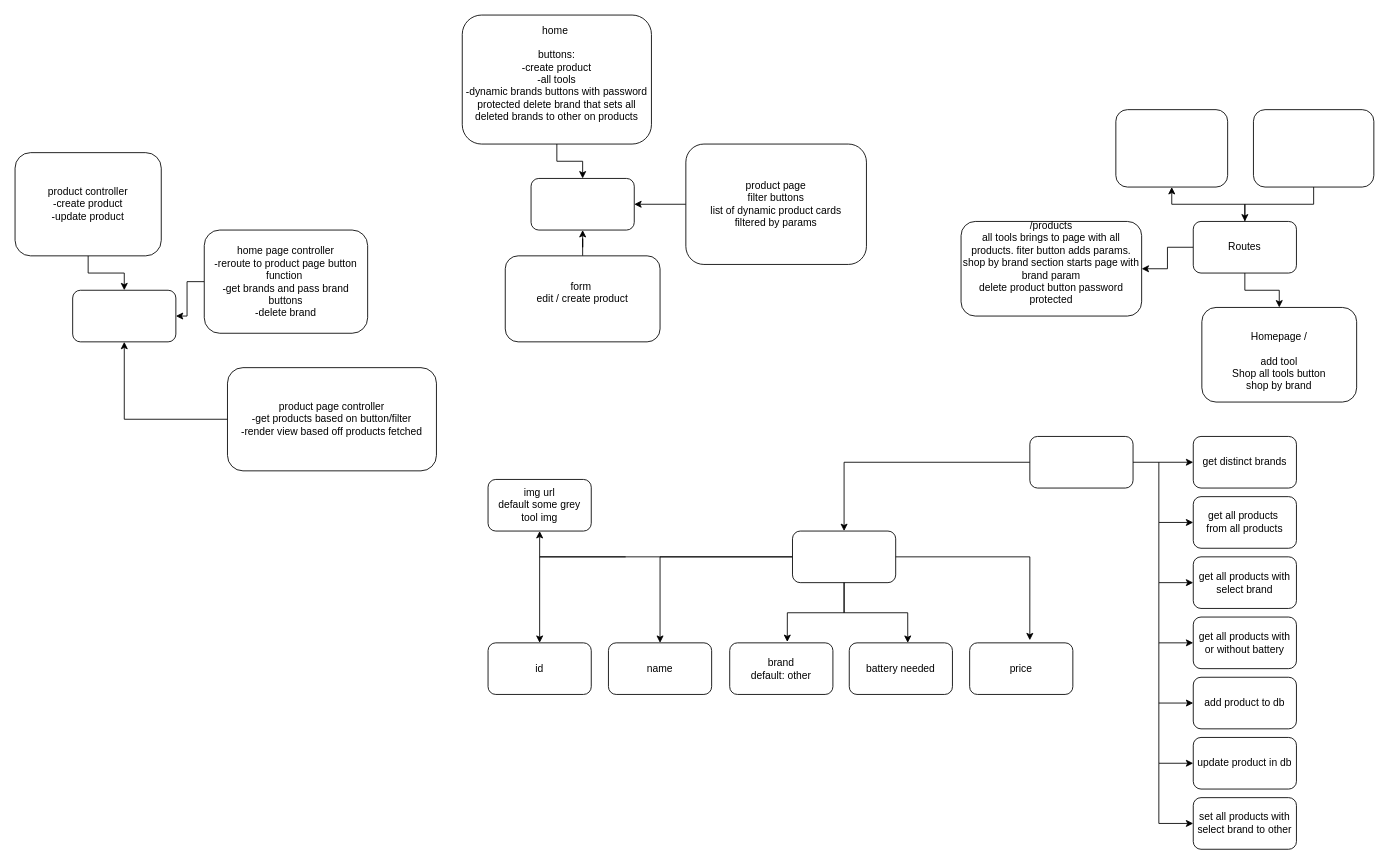
Image size: 1389x864. Some labels were removed from this diagram. The shapes that lost their labels are listed below. From the top down, each one's centre as x and y in pixels, then its label:
At point 1171,148: "/new create form for new product".
At point 1313,148: "/update update form for created product".
At point 582,204: "views".
At point 124,315: "Controllers".
At point 1081,462: "queries".
At point 844,556: "Tools DB".
